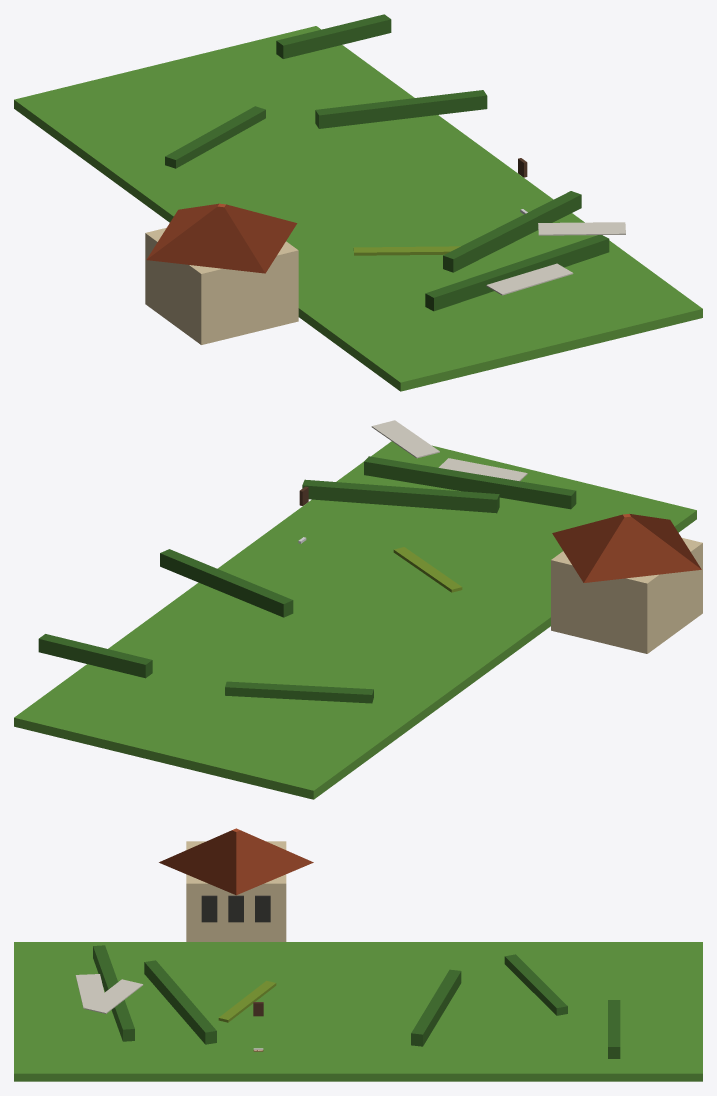
The model's file is hyatt_garden.glb.
3 renders of one model, top to bottom at view 1: azimuth 30°, elevation 25°; view 2: azimuth 150°, elevation 25°; view 3: azimuth 270°, elevation 25°, orthographic. The views are drawn at different scales.
Visible parts, largest first — view 1: hyatt_garden_lod0; view 2: hyatt_garden_lod0; view 3: hyatt_garden_lod0.
Boxes of the visible parts, bbox=[...] form: hyatt_garden_lod0: bbox=[14, 14, 702, 391]; hyatt_garden_lod0: bbox=[14, 420, 702, 799]; hyatt_garden_lod0: bbox=[14, 828, 702, 1081].
Size of what is drawn, in the model's own units: 42 by 9.57 by 62.
12 materials, 1 textured.
